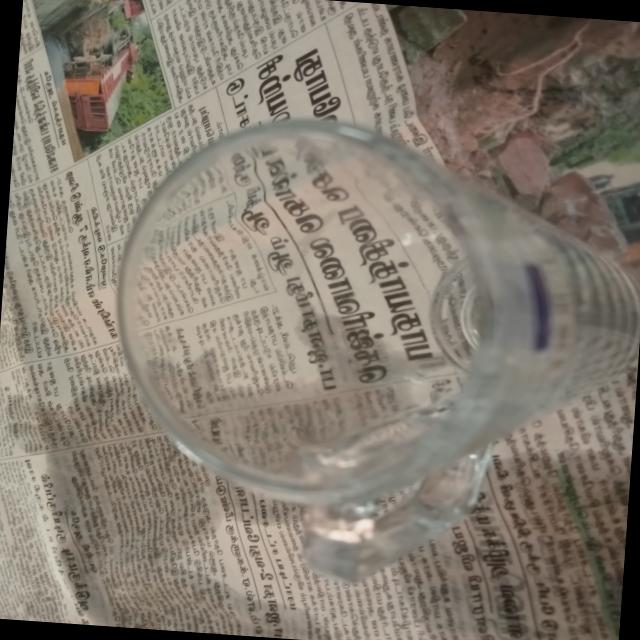glass-VX4N: (93, 108, 640, 619)
